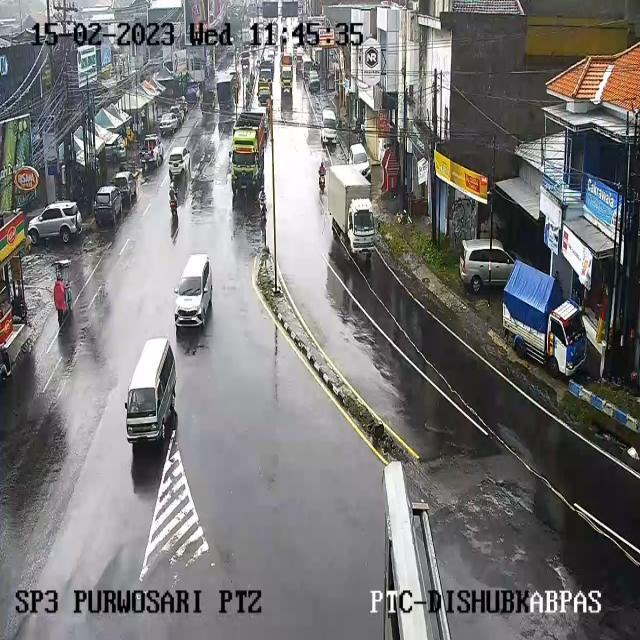Car: (128, 340, 180, 450), (173, 254, 212, 328), (459, 237, 516, 282), (26, 201, 81, 239), (93, 186, 124, 227), (112, 171, 138, 205), (347, 143, 369, 180), (140, 134, 164, 167), (168, 146, 190, 177), (320, 107, 338, 144), (200, 83, 217, 112), (159, 112, 179, 134), (169, 105, 186, 124), (177, 96, 188, 114), (263, 48, 275, 64), (296, 46, 304, 63)
Motorbike: (51, 259, 73, 327), (168, 182, 179, 214), (318, 161, 326, 193)
Truck: (504, 251, 596, 381), (326, 165, 374, 260), (230, 109, 269, 197), (257, 54, 276, 102), (217, 77, 236, 116), (280, 51, 294, 94), (302, 53, 314, 81), (185, 84, 199, 105), (308, 71, 320, 93), (240, 51, 251, 69)
